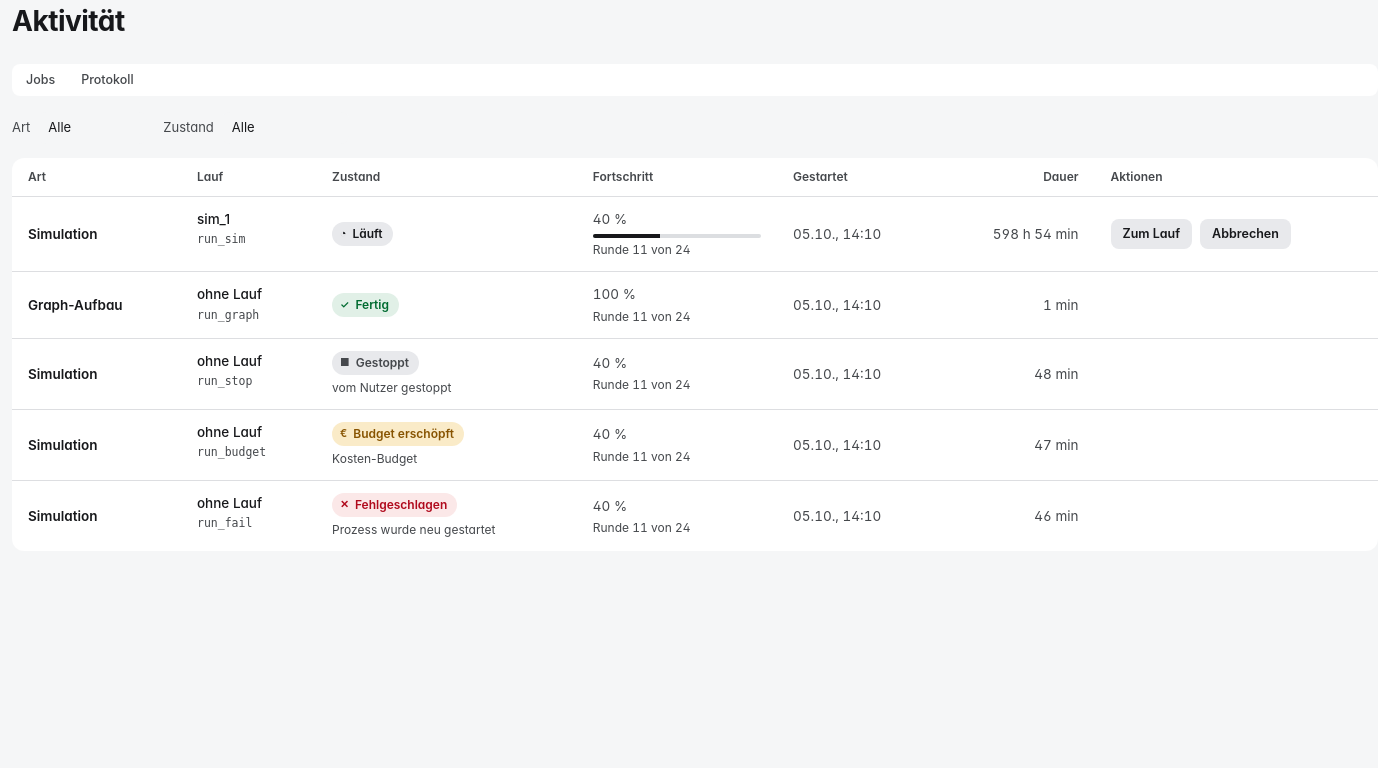
Test: ActivityJobsView › „Abbrechen" nur für laufende Jobs, mit Rückfrage
The image size is (1378, 768).
Click the button with test id "cancel": (1246, 234) [1200,219,1291,249]
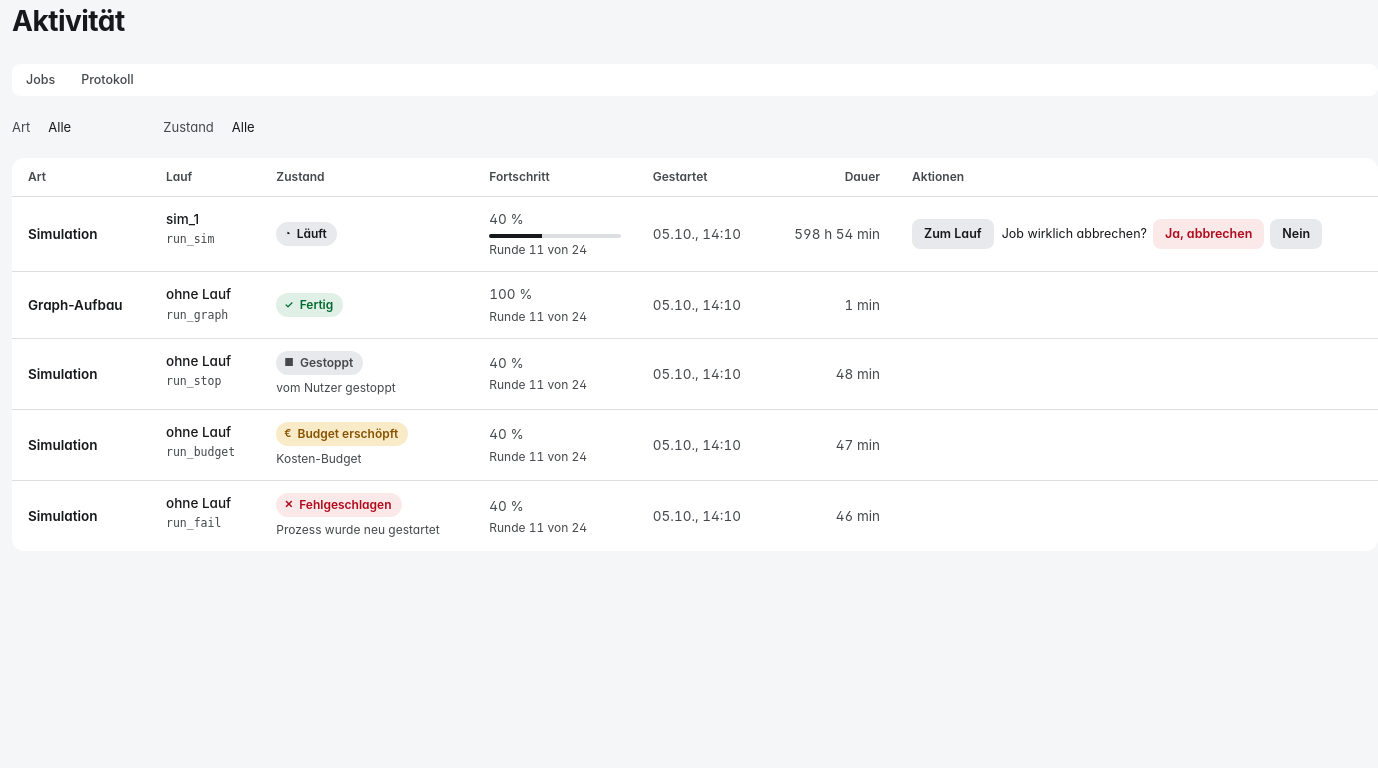
Click the button with test id "cancel-no": (1296, 234) [1270,219,1322,249]
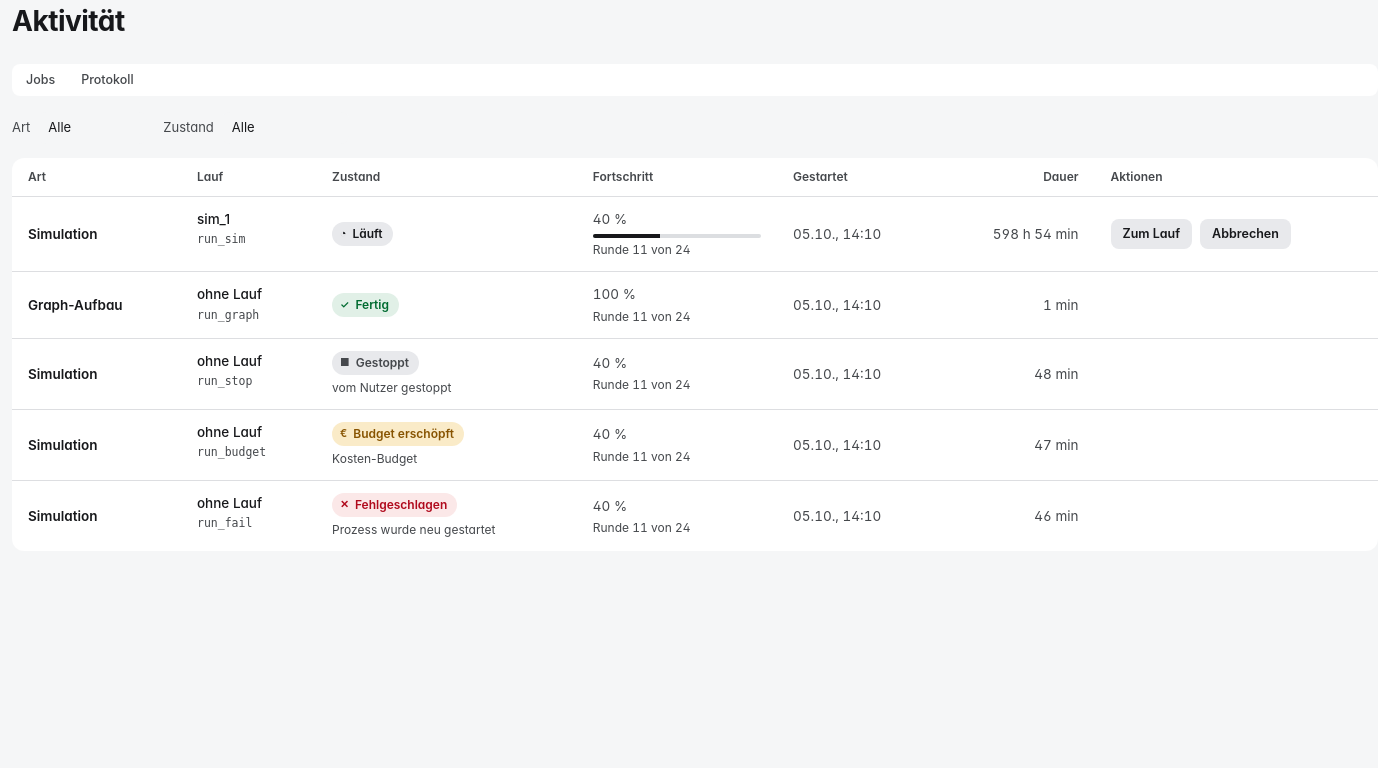
Click the button with test id "cancel": (1246, 234) [1200,219,1291,249]
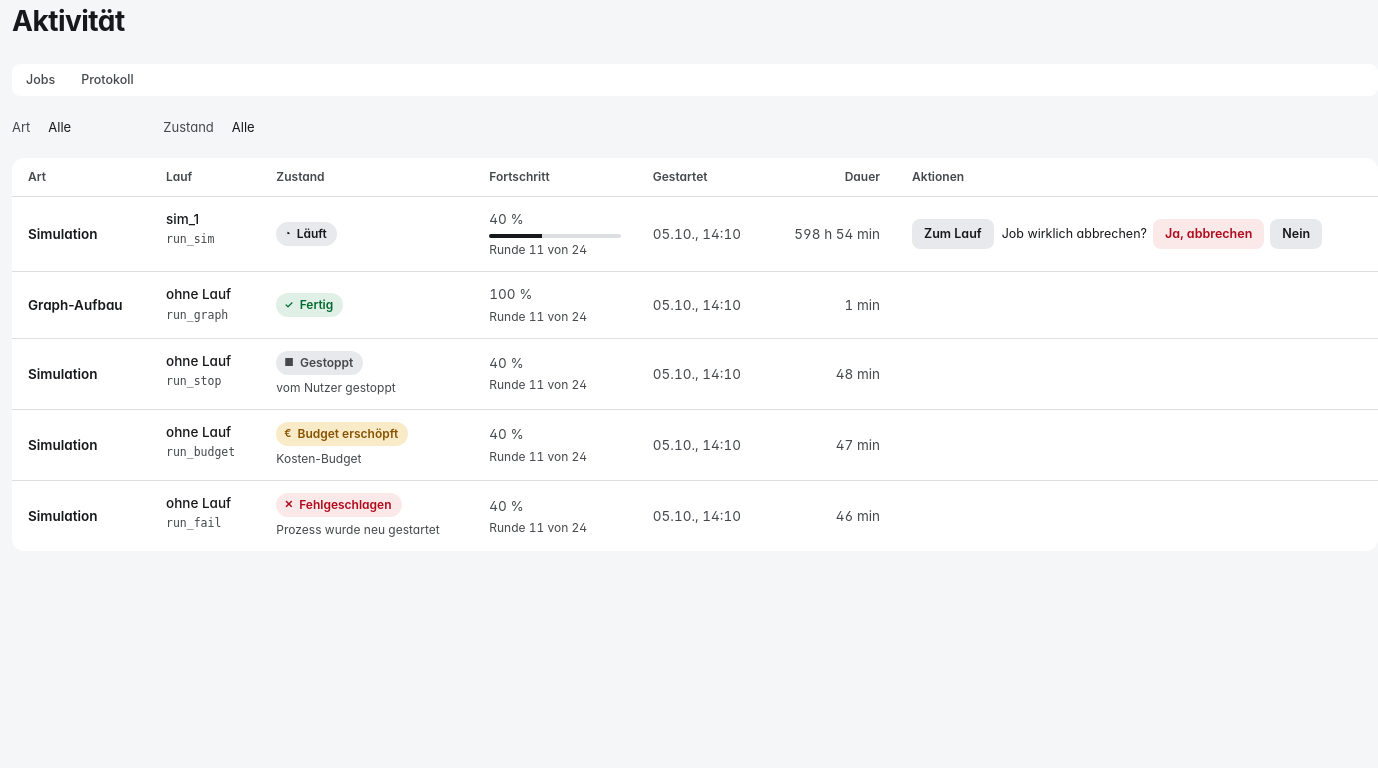
Click the button with test id "cancel-yes": (1209, 234) [1153,219,1264,249]
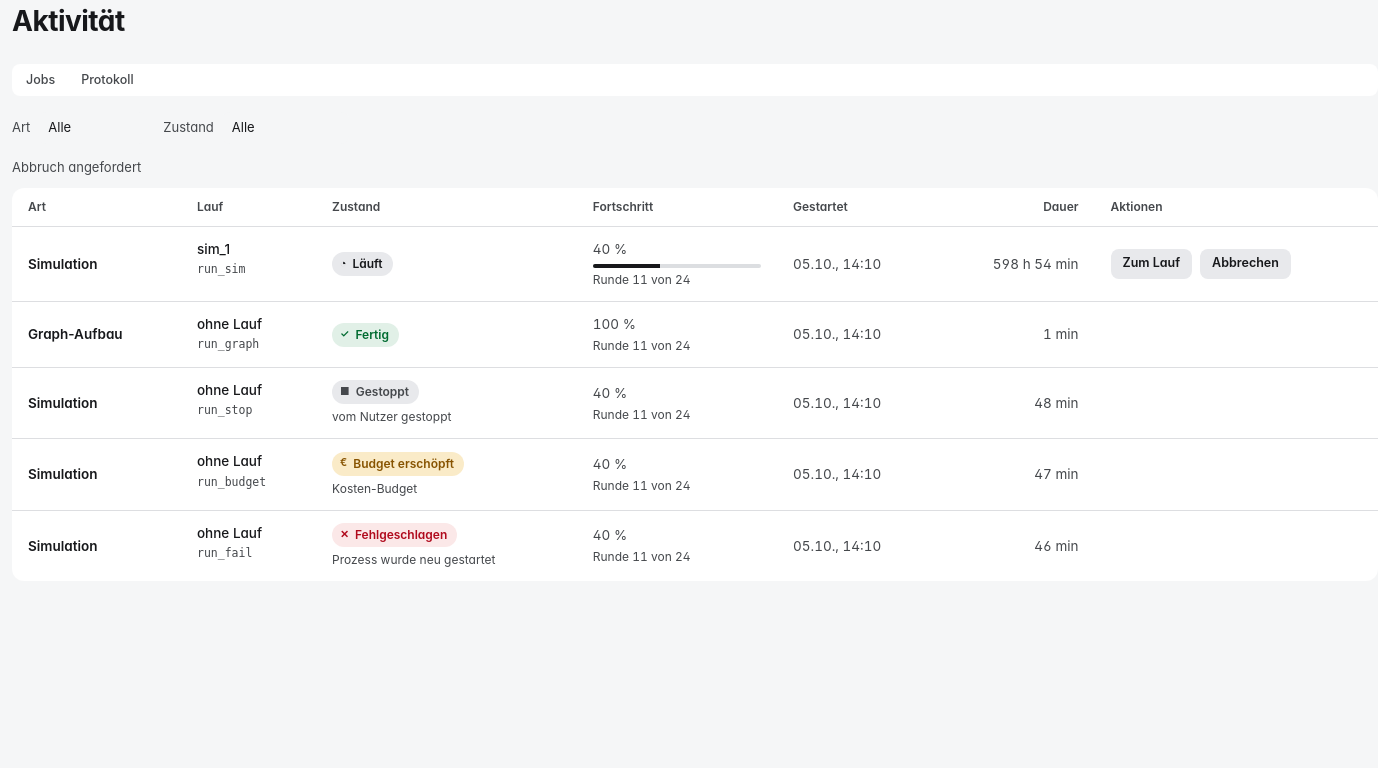
Expected: the text "Abbruch angefordert" is shown, [12,159,141,175]
